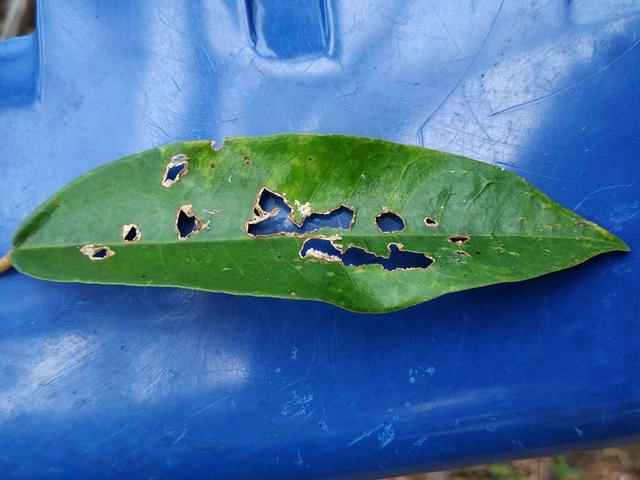blight spot: (241, 183, 476, 280), (168, 199, 208, 246), (159, 153, 193, 192), (75, 238, 113, 264), (126, 214, 147, 246)
